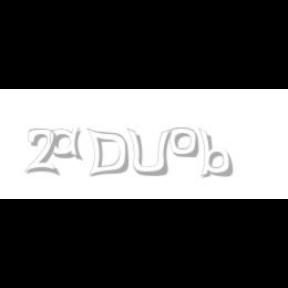2: (24, 128, 58, 176)
D: (86, 128, 128, 178)
U: (125, 128, 170, 178)
a: (51, 128, 88, 160)
b: (198, 128, 236, 178)
o: (170, 128, 198, 158)
